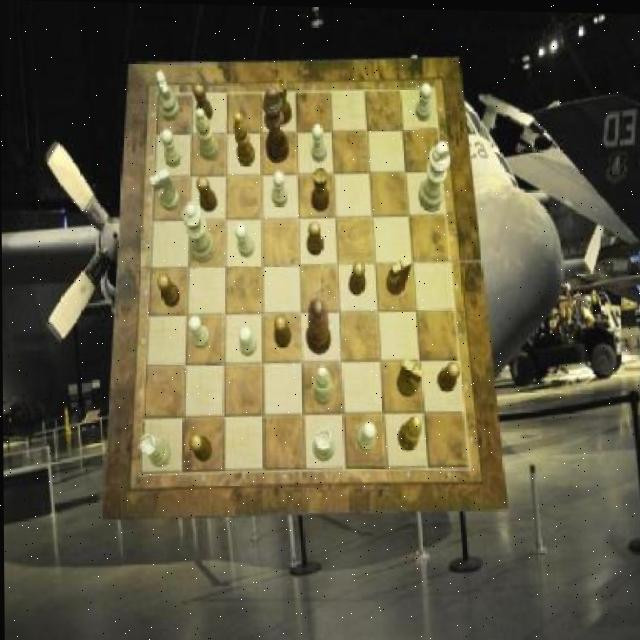bishop: (234, 112, 255, 166), (397, 413, 421, 449)
black-bishop: (261, 86, 288, 163)
black-king: (397, 356, 424, 395), (384, 254, 411, 293)
black-knight: (156, 273, 179, 308), (193, 83, 213, 122), (195, 176, 215, 212), (436, 358, 459, 389), (189, 434, 212, 462), (347, 258, 365, 293), (274, 314, 291, 348), (306, 221, 323, 255)
black-pawn: (305, 295, 330, 352)
black-queen: (309, 164, 329, 209), (272, 77, 290, 124)
black-rook: (195, 106, 218, 161), (312, 364, 333, 402)
white-bishop: (418, 138, 450, 209)
white-king: (149, 167, 180, 210), (155, 70, 179, 122)
white-knight: (187, 314, 210, 348), (161, 129, 181, 168), (414, 81, 432, 120), (234, 223, 254, 257), (310, 122, 326, 161), (355, 420, 375, 450), (270, 169, 286, 205), (238, 326, 256, 357)
white-pawn: (181, 200, 214, 263)
white-queen: (140, 433, 170, 467), (311, 427, 333, 461)
